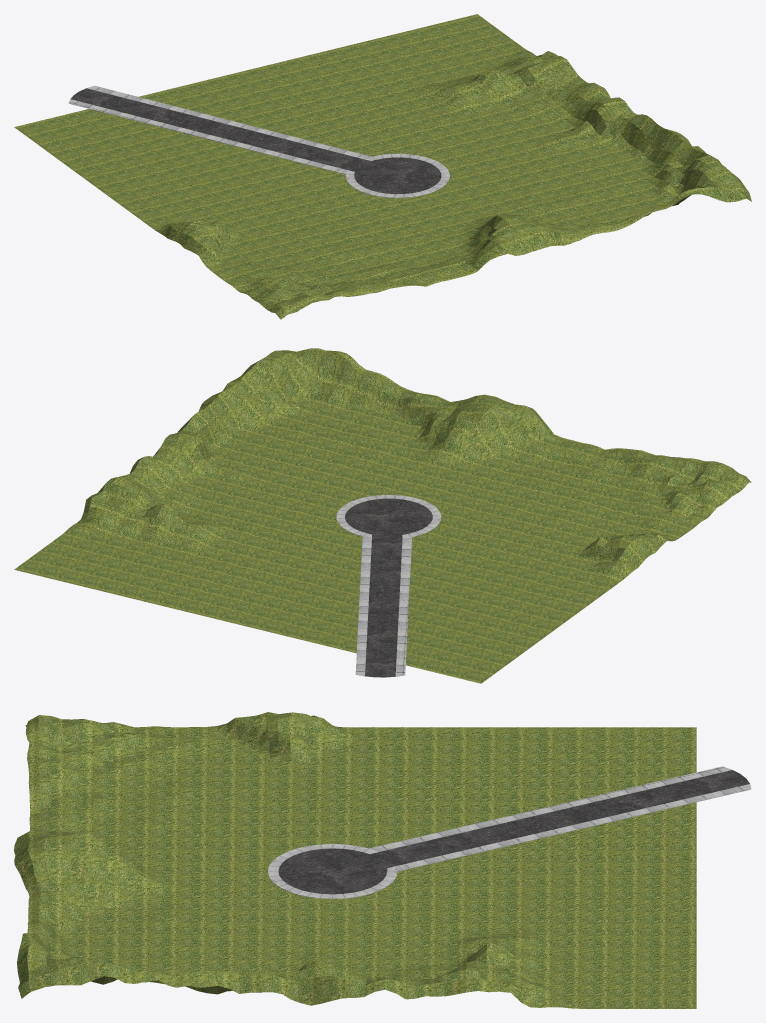
The model's file is culdesac.glb.
The picture shows the model from 3 angles, top to bottom: view 1: azimuth 30°, elevation 25°; view 2: azimuth 150°, elevation 25°; view 3: azimuth 270°, elevation 25°; orthographic projection. The views are drawn at different scales.
Visible parts, largest first — view 1: Ground-col, CulDeSac-col; view 2: Ground-col, CulDeSac-col; view 3: Ground-col, CulDeSac-col.
Boxes of the visible parts, x1,y1,x2,y2 form: Ground-col: (14, 14, 751, 319); CulDeSac-col: (68, 85, 449, 197); Ground-col: (14, 348, 751, 683); CulDeSac-col: (336, 495, 441, 677); Ground-col: (14, 712, 696, 1008); CulDeSac-col: (268, 766, 751, 898).
Bounding box in the file's own units: 729 × 51.46 × 790.
Materials: 4 (3 with a texture image).
